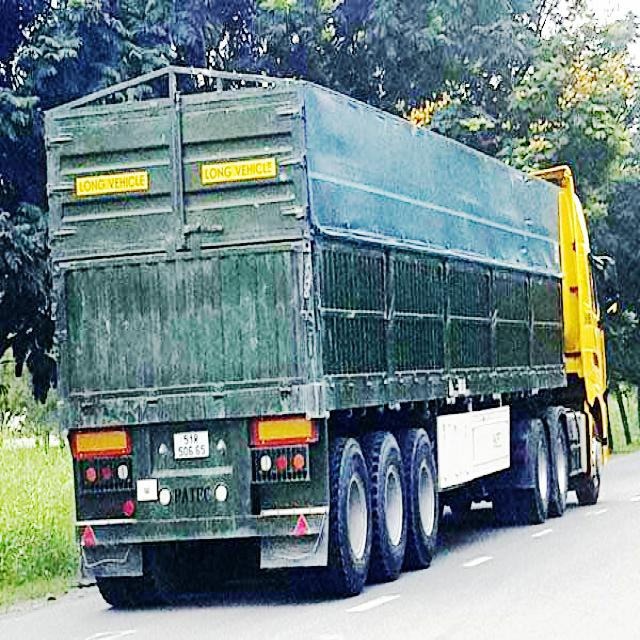license_plate: (175, 433, 211, 461)
